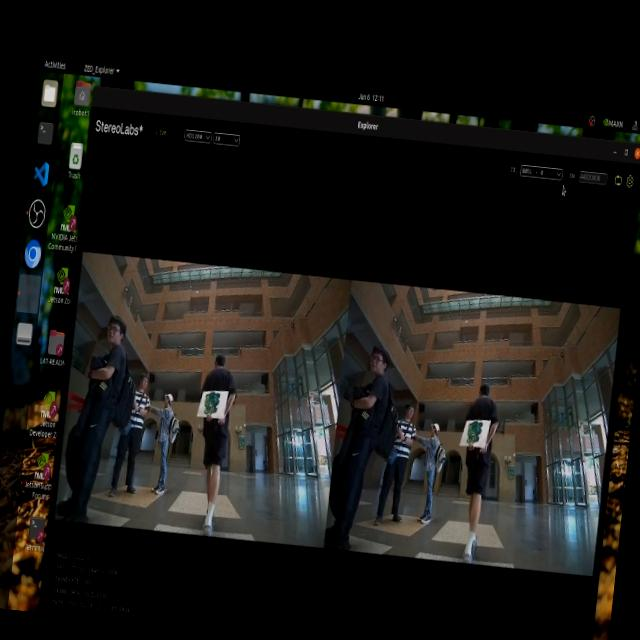green: (198, 397, 224, 423), (469, 418, 485, 450)
